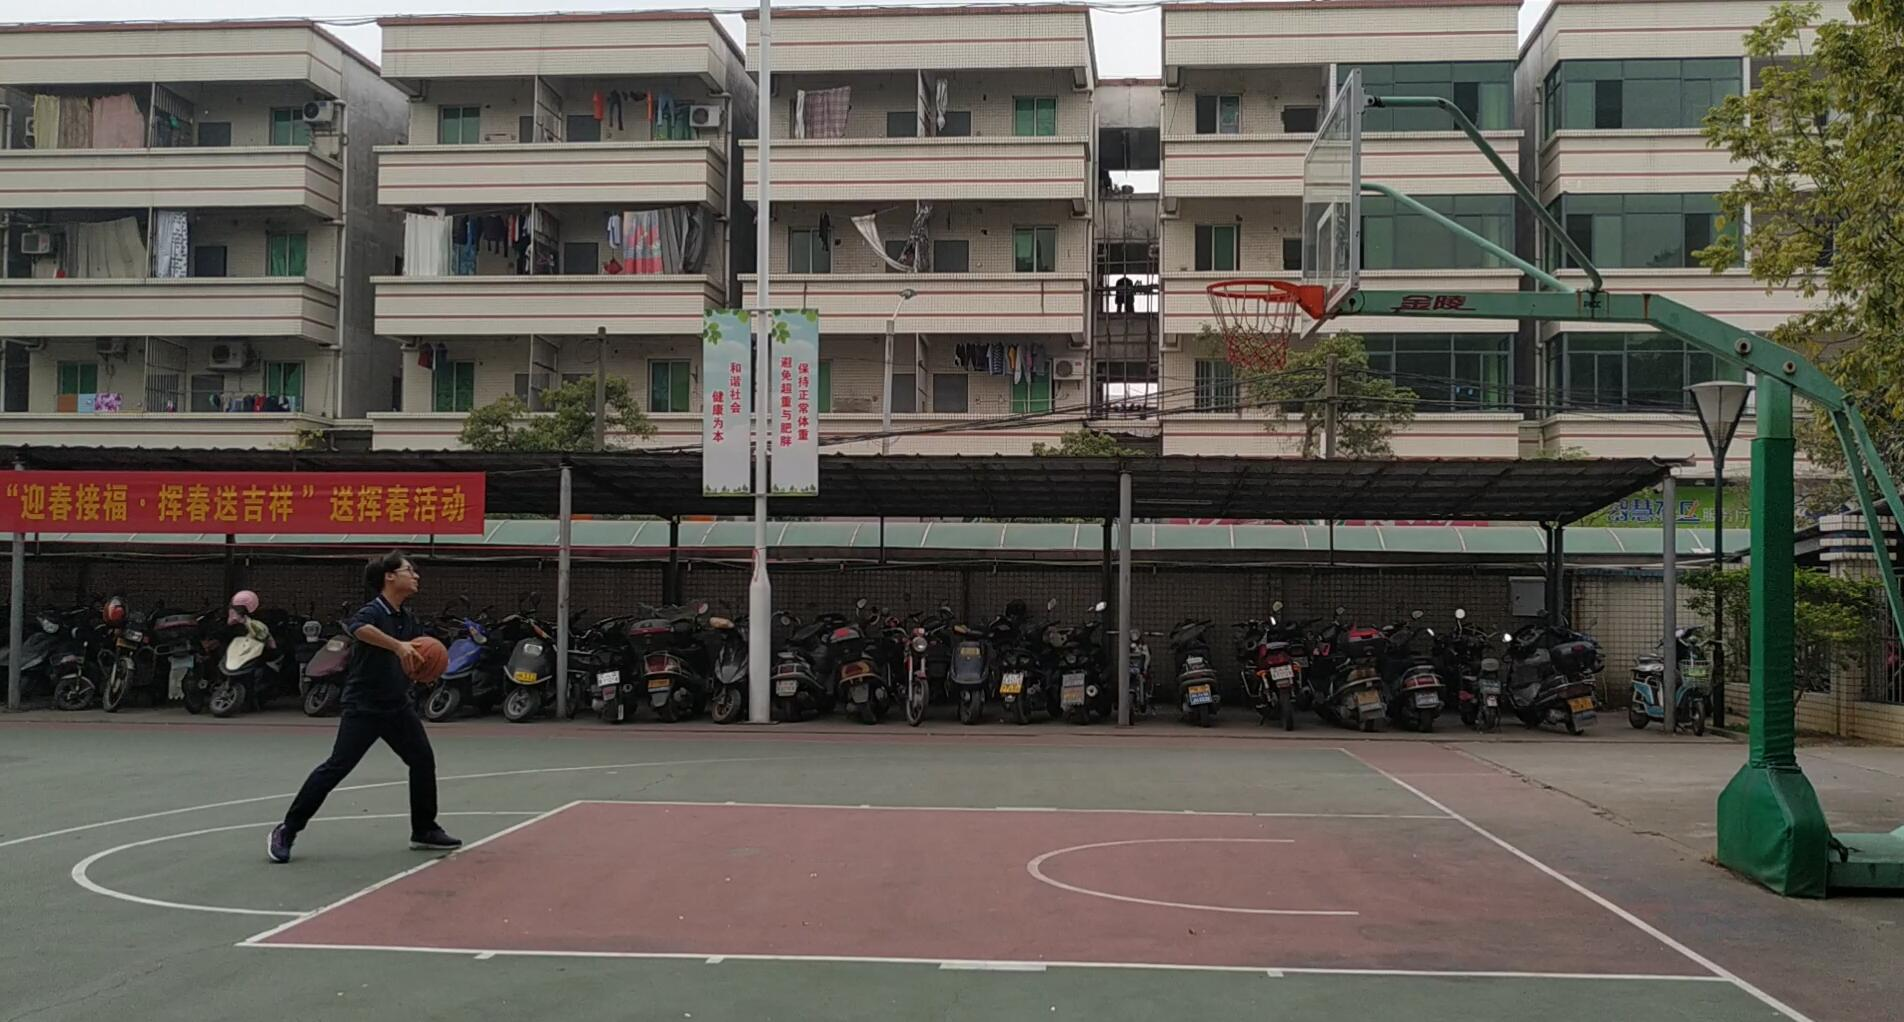basketball: (395, 632, 455, 687)
